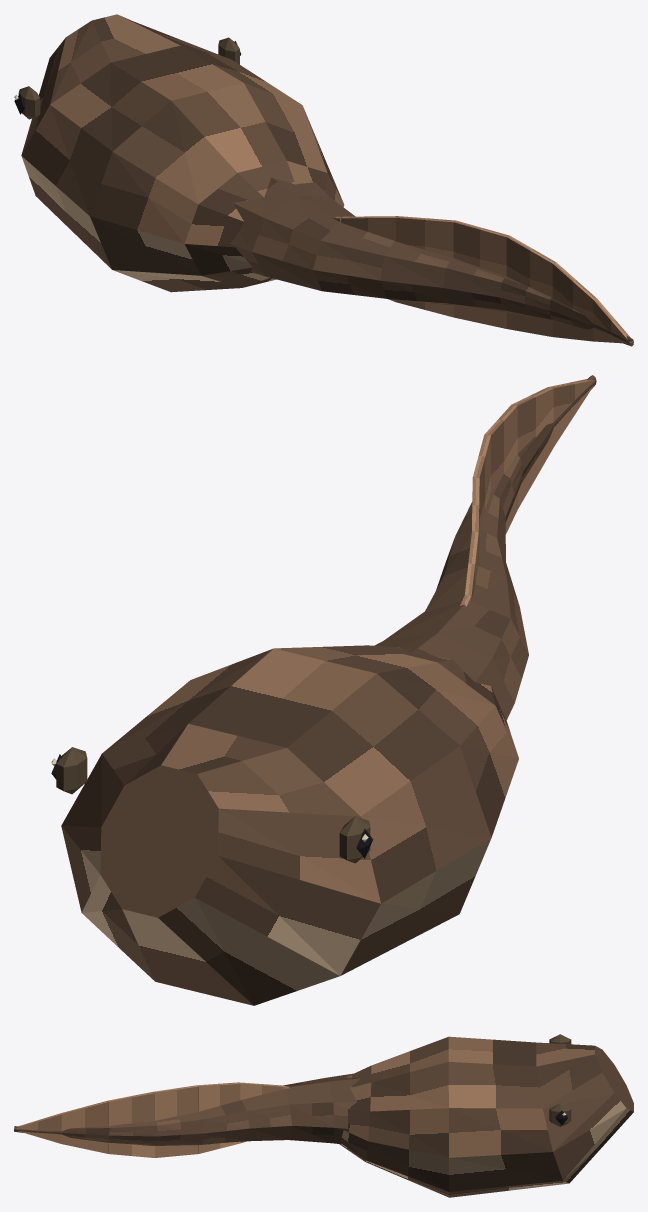
File: mon_wood_tadpole.glb
The picture shows the model from 3 angles, top to bottom: view 1: azimuth 30°, elevation 25°; view 2: azimuth 150°, elevation 25°; view 3: azimuth 270°, elevation 25°; orthographic projection. The views are drawn at different scales.
Visible parts, largest first — view 1: closed_body; view 2: closed_body; view 3: closed_body.
Boxes of the visible parts, x1,y1,x2,y2 form: closed_body: [14, 14, 633, 346]; closed_body: [51, 375, 596, 1005]; closed_body: [14, 1034, 633, 1197].
Size of the model in its own units: 0.0273 by 0.0211 by 0.087.
1 material, 1 textured.
